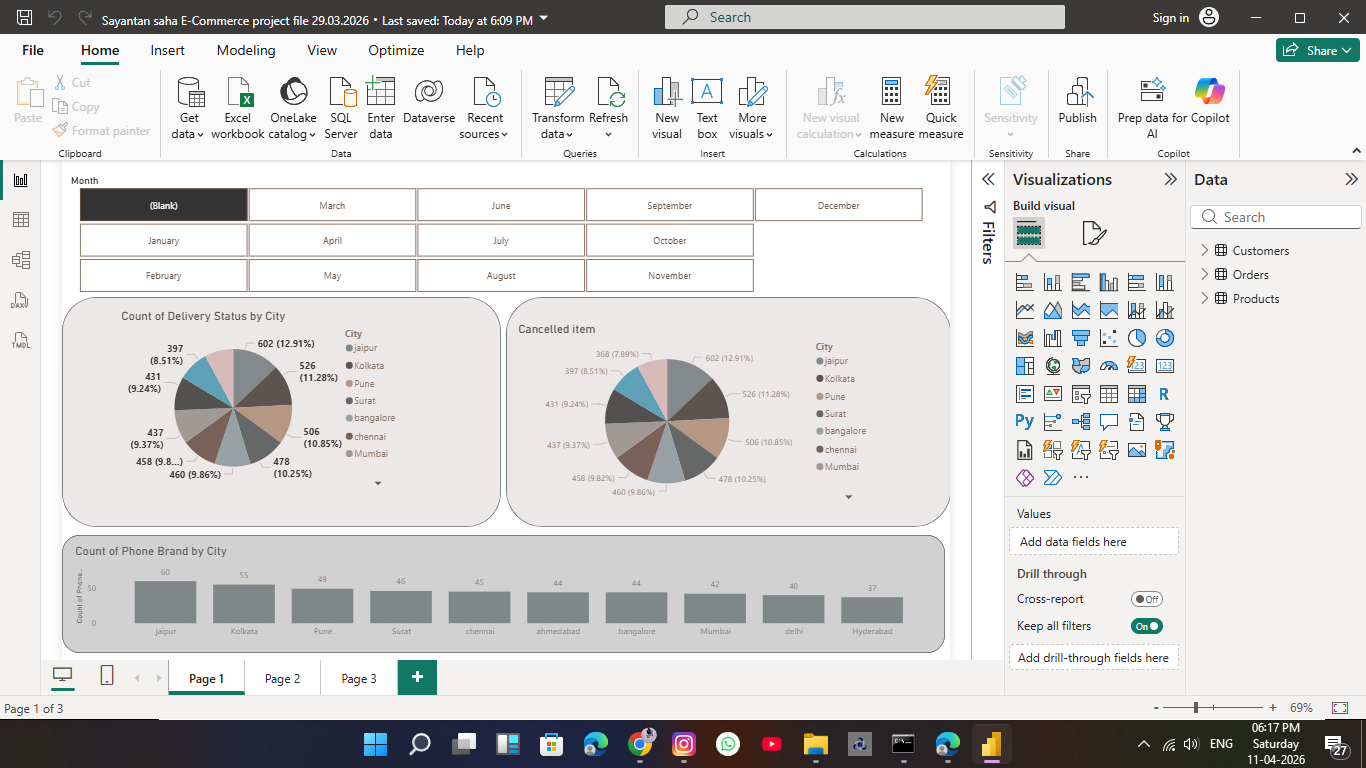

The dashboard page shown, as its layout file describes it:
{"tool":"powerbi","page":{"name":"Page 1","canvas":[1280,720],"ordinal":0},"visuals":[{"type":"pieChart","fields":{"Category":["Customers.City"],"Y":["CountNonNull(Orders.Delivery Status)"]},"box":[80.6,215,425,263.7],"z":0},{"type":"pieChart","title":"Cancelled item","fields":{"Category":["Customers.City"],"Y":["CountNonNull(Orders.Delivery Status)"]},"box":[652.7,232.7,531.2,264.9],"z":1000},{"type":"shape","box":[0,197.3,632.2,331.2],"z":2000},{"type":"clusteredColumnChart","fields":{"Category":["Customers.City"],"Y":["CountNonNull(Customers.Phone Brand)"]},"box":[14.4,553,1248.5,144],"z":3000},{"type":"slicer","fields":{"Values":["Orders.Delivery Date.Variation.Date Hierarchy.Month"]},"box":[0,15.8,1262.9,181.4],"z":4000},{"type":"shape","box":[0,540,1271.5,169.9],"z":5000},{"type":"shape","box":[639.4,197.3,640.8,331.2],"z":6000}]}

Visuals, with their boxes on the page's 1280x720 design canvas (x1, y1, x2, y2). These are canvas units, not pixel positions in the 1366x768 screenshot, which may show the page scaled, cropped or inside an application window:
pieChart - Customers.City x CountNonNull(Orders.Delivery Status): region(81, 215, 506, 479)
"Cancelled item" pieChart: region(653, 233, 1184, 498)
shape: region(0, 197, 632, 528)
clusteredColumnChart - Customers.City x CountNonNull(Customers.Phone Brand): region(14, 553, 1263, 697)
slicer - Orders.Delivery Date.Variation.Date Hierarchy.Month: region(0, 16, 1263, 197)
shape: region(0, 540, 1272, 710)
shape: region(639, 197, 1280, 528)
